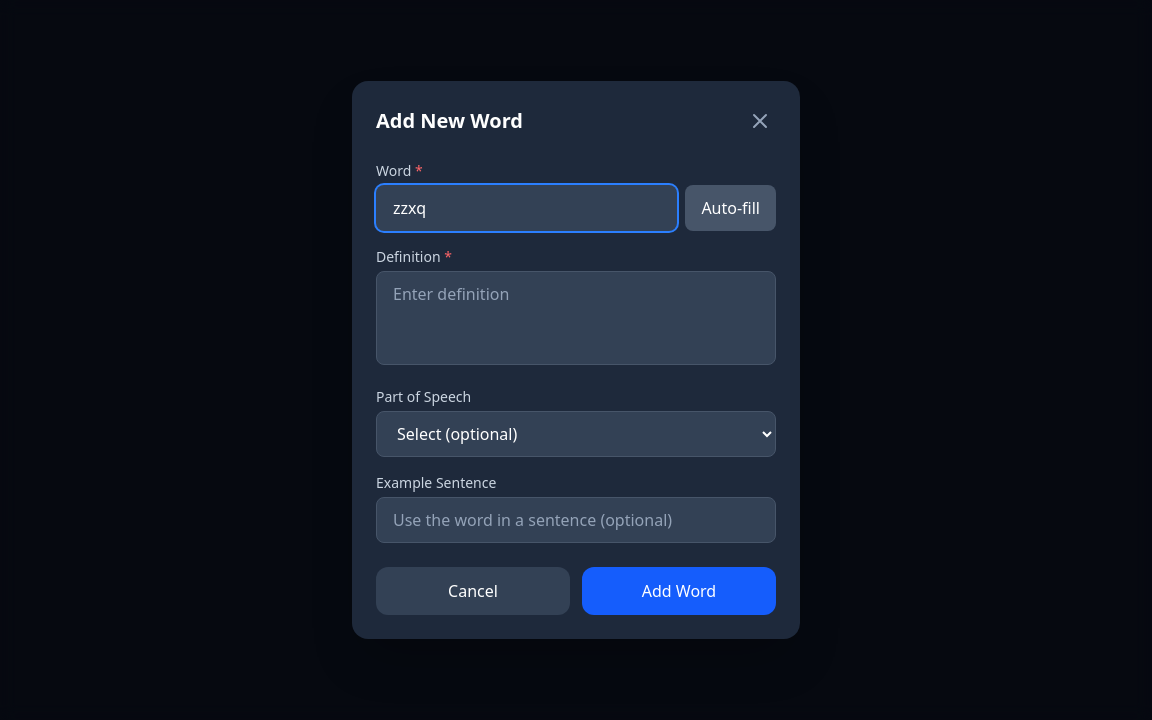
Test: AddWordModal › says so when the dictionary has no entry, and clears that when the word changes
Click the button "Auto-fill".
click(731, 208)  # box [685,185,776,231]
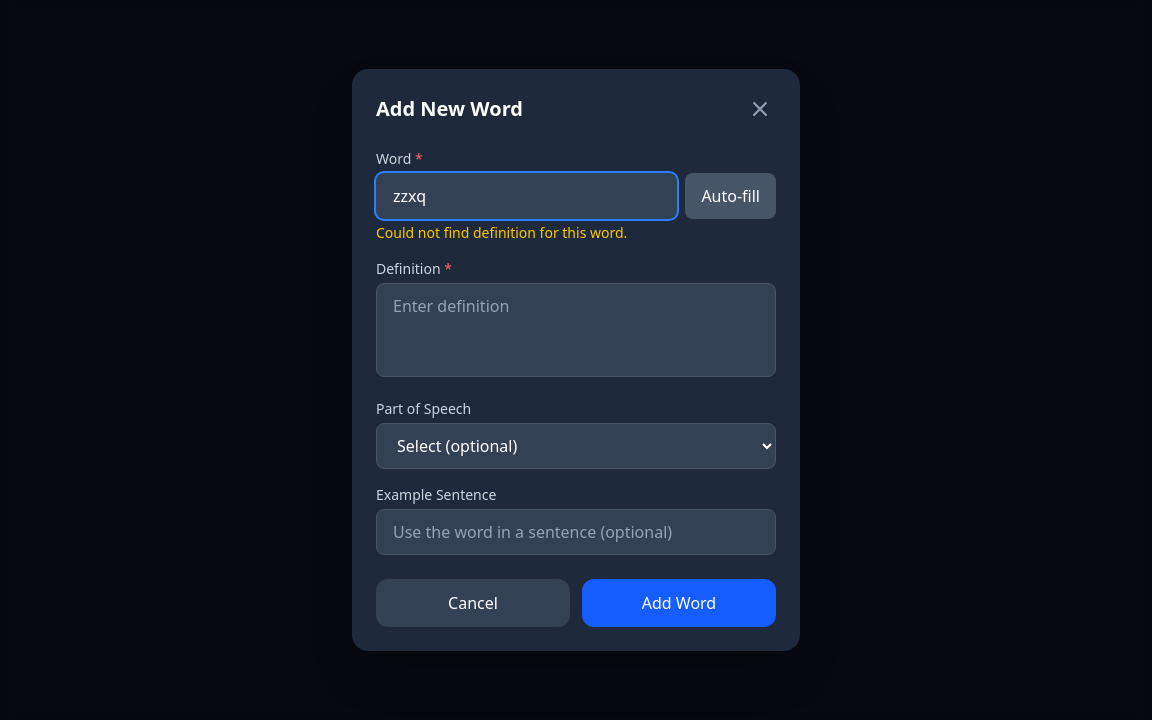
Now the text "Could not find definition for this word." is shown, box [376,223,627,242]
Replace the text in the field labelled "Word *" with "zzxqq" at (527, 196), box [376,173,677,219]
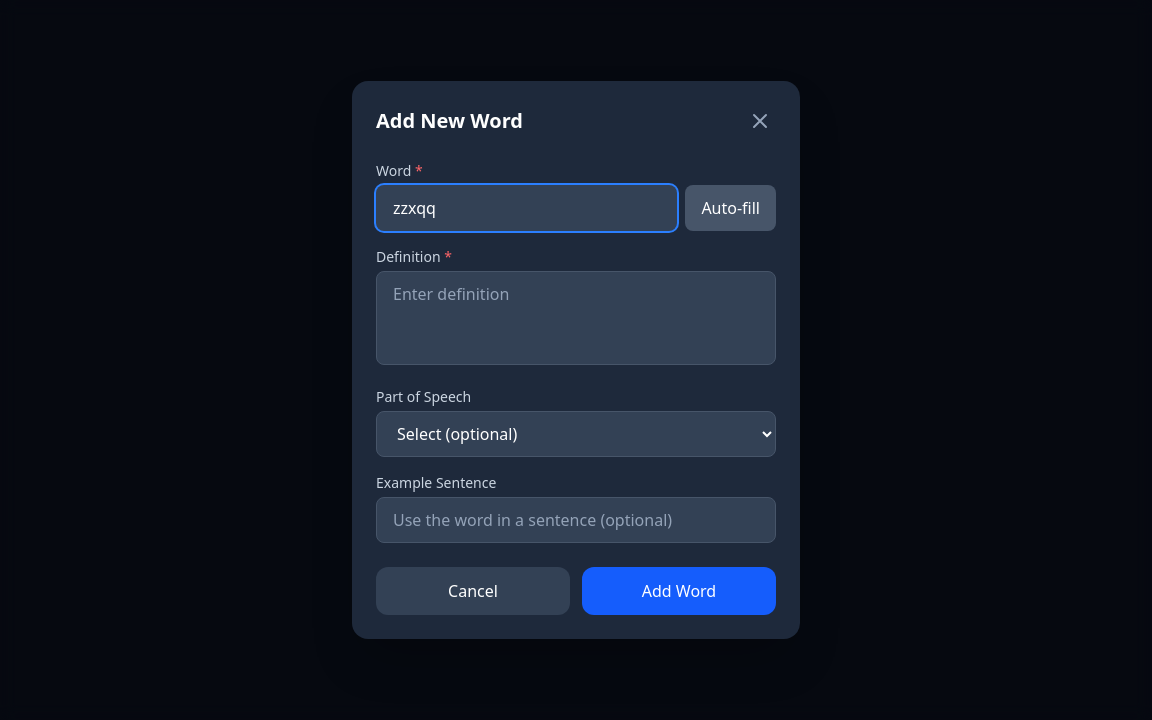
Now the text "Could not find definition for this word." is gone
